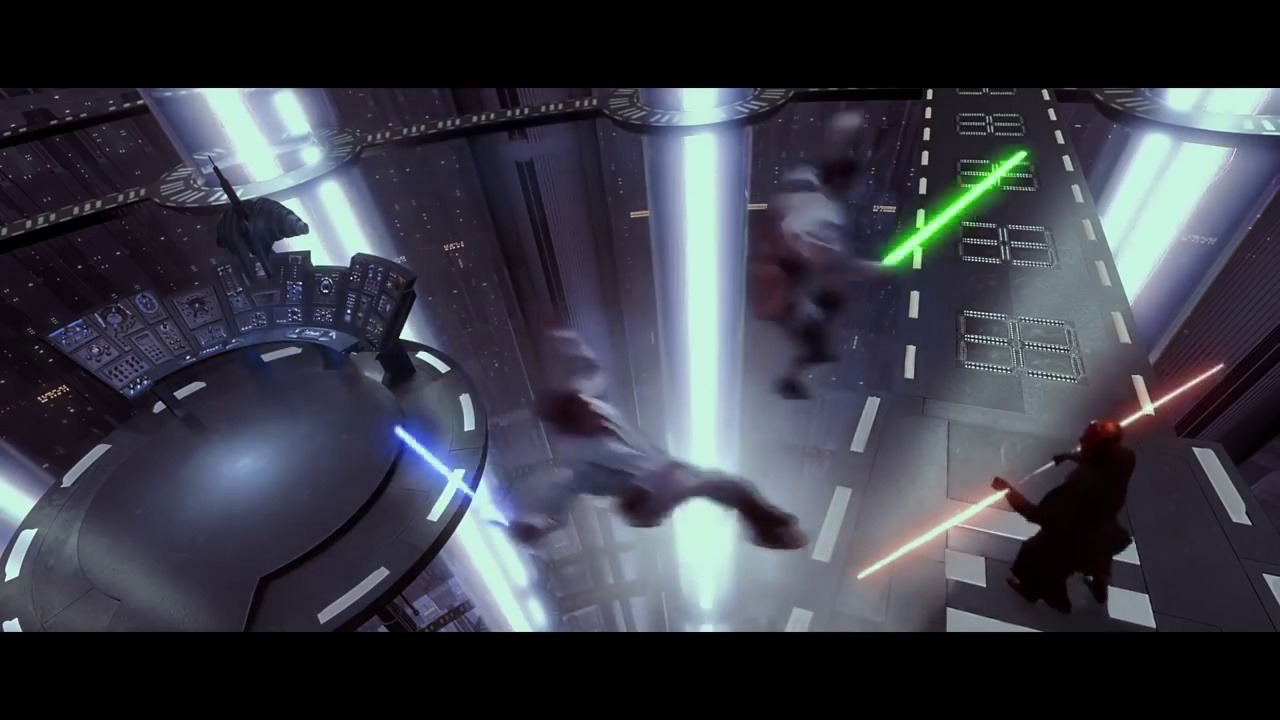lightsaber: (852, 473, 1039, 589), (880, 140, 1034, 268), (390, 420, 517, 540), (1117, 357, 1232, 429)
